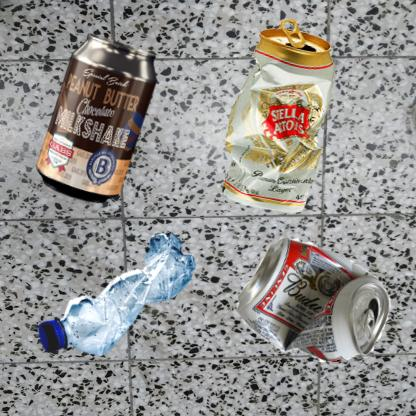botella: (10, 213, 293, 416)
lata: (10, 10, 207, 262), (213, 10, 358, 239), (213, 213, 416, 373)
